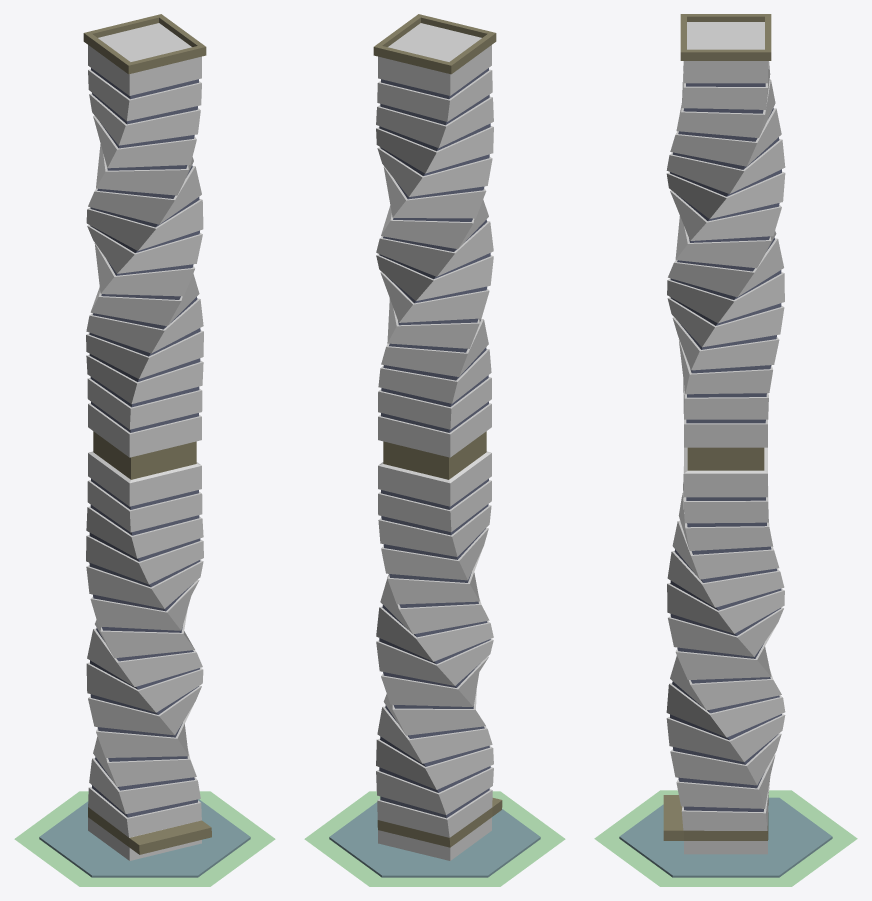
The model's file is npc_investment_company.fbx.
3 renders of one model, left to right at view 1: azimuth 30°, elevation 25°; view 2: azimuth 150°, elevation 25°; view 3: azimuth 270°, elevation 25°, orthographic.
Parts seen in each view (by area): view 1: 立方体.008; view 2: 立方体.008; view 3: 立方体.008.
Boxes of the visible parts, x1,y1,x2,y2 form: 立方体.008: (14, 14, 275, 886); 立方体.008: (304, 14, 565, 886); 立方体.008: (594, 14, 857, 886).
Size of the model in its own units: 165 by 645 by 190.
